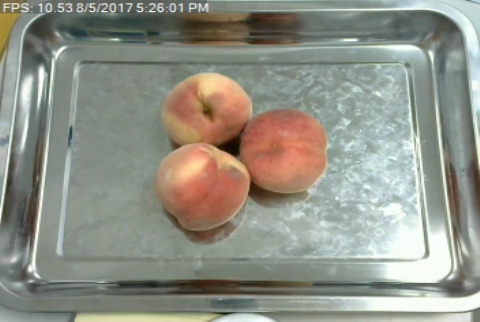Peach: (156, 142, 249, 232), (240, 107, 328, 193), (160, 70, 252, 150)
